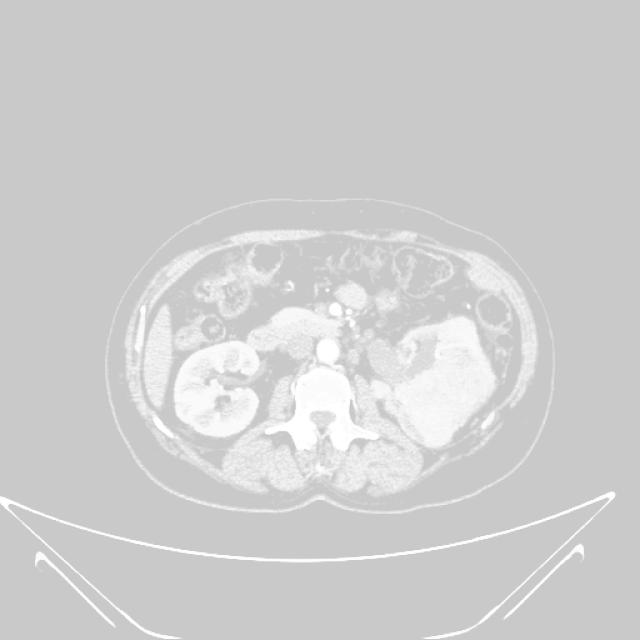TUMOR: (118, 259, 473, 435)
